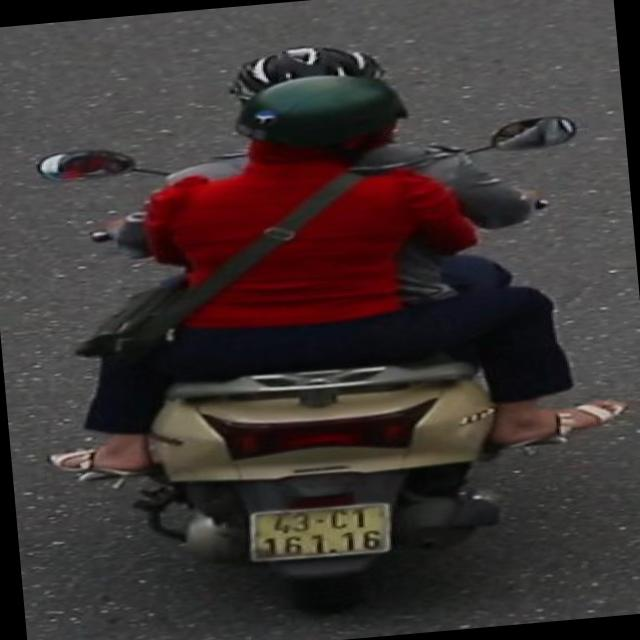LP: (235, 490, 404, 578)
helmet: (230, 70, 407, 170), (215, 32, 398, 94)
